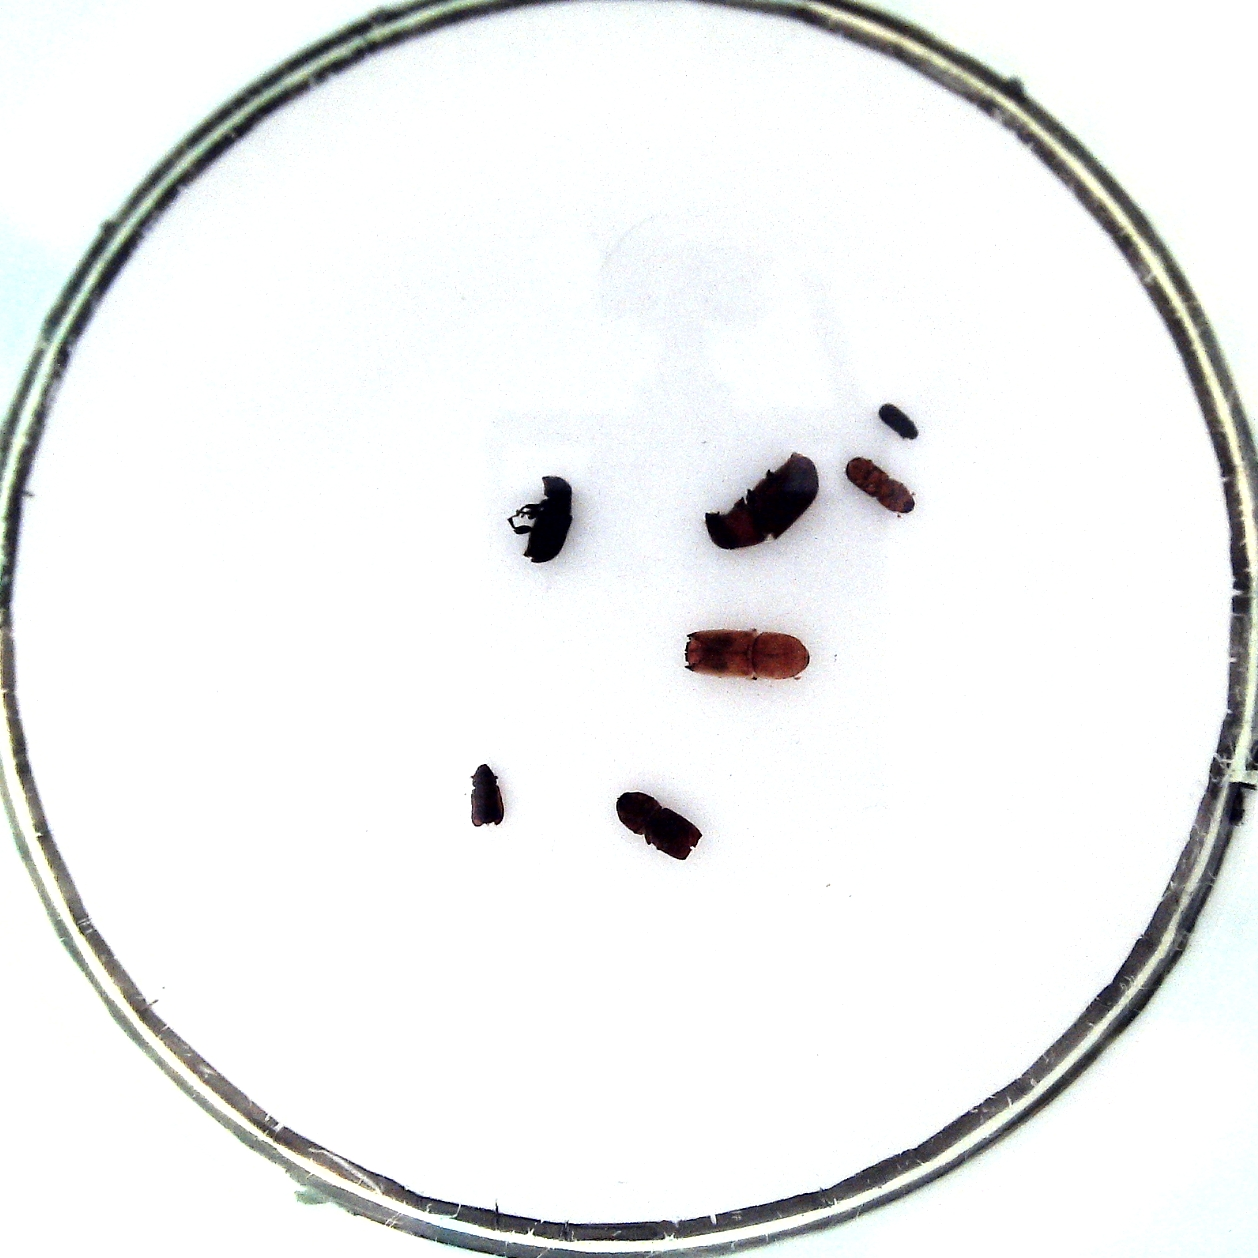Boerner: (685, 629, 811, 681)
Leconte: (704, 450, 819, 551)
acuminatus: (878, 403, 918, 440)
armandi: (524, 476, 574, 563)
coleoptera: (846, 457, 915, 514), (470, 761, 505, 828)
linnaeus: (616, 791, 703, 861)
